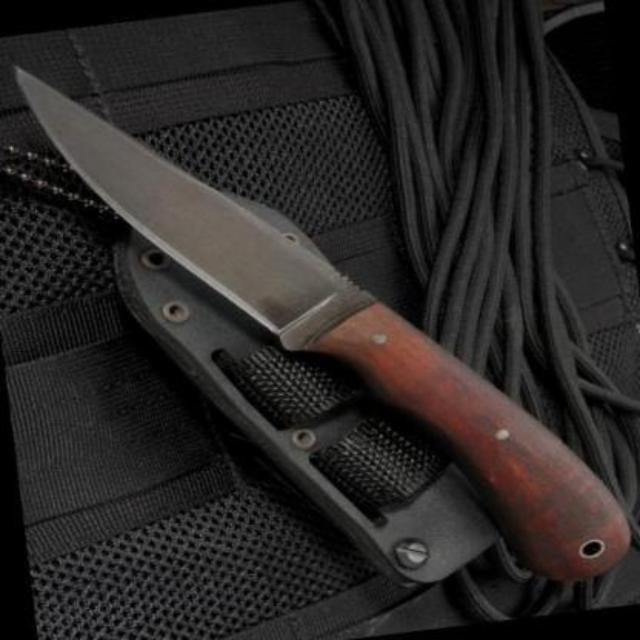Knife: (14, 70, 628, 580)
